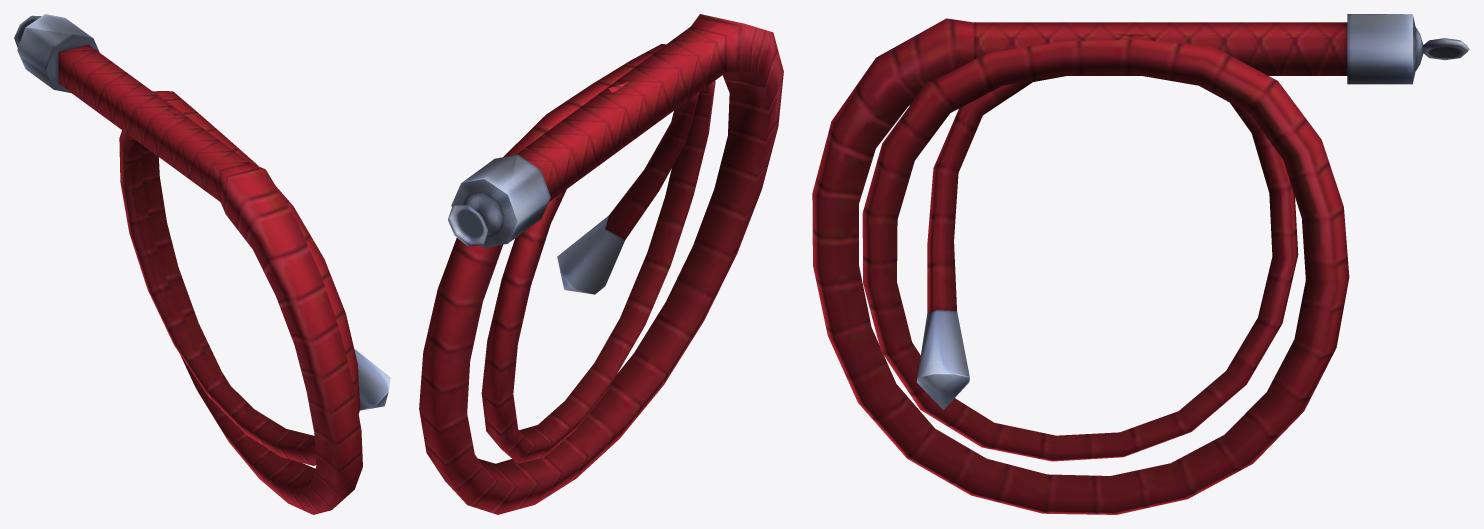
3 views of the same model, side by side, from view 1: azimuth 30°, elevation 25°; view 2: azimuth 150°, elevation 25°; view 3: azimuth 270°, elevation 25° (orthographic). The views are drawn at different scales.
Parts seen in each view (by area): view 1: mLance; view 2: mLance; view 3: mLance.
Part boxes in pixels (box(x1,y1,x2,y2)): mLance: box(14, 14, 390, 514); mLance: box(419, 14, 783, 514); mLance: box(812, 14, 1469, 514).
Size of the model in its own units: 0.1033 by 0.234 by 0.3082.
1 material, 1 textured.
